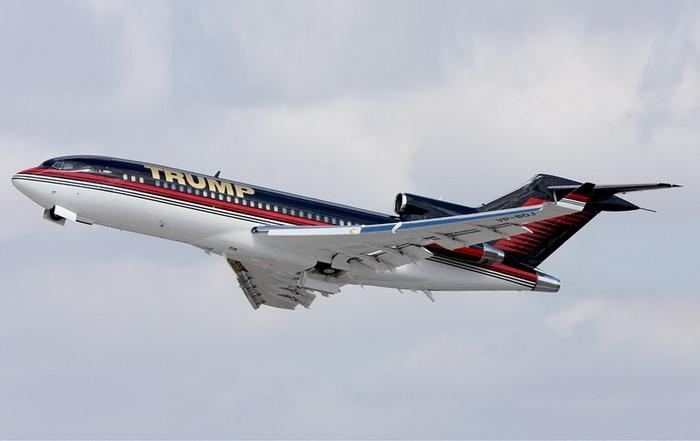airplane: (11, 148, 686, 301)
